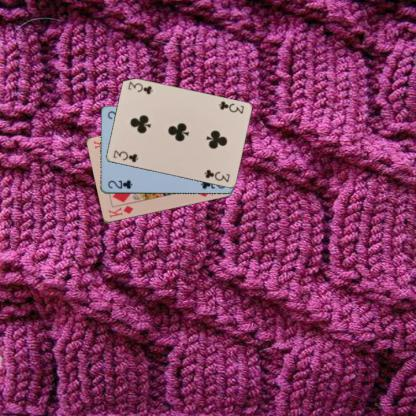2c: (105, 178, 133, 190)
3c: (216, 99, 245, 115), (110, 148, 140, 163)
Kd: (106, 203, 134, 219)
